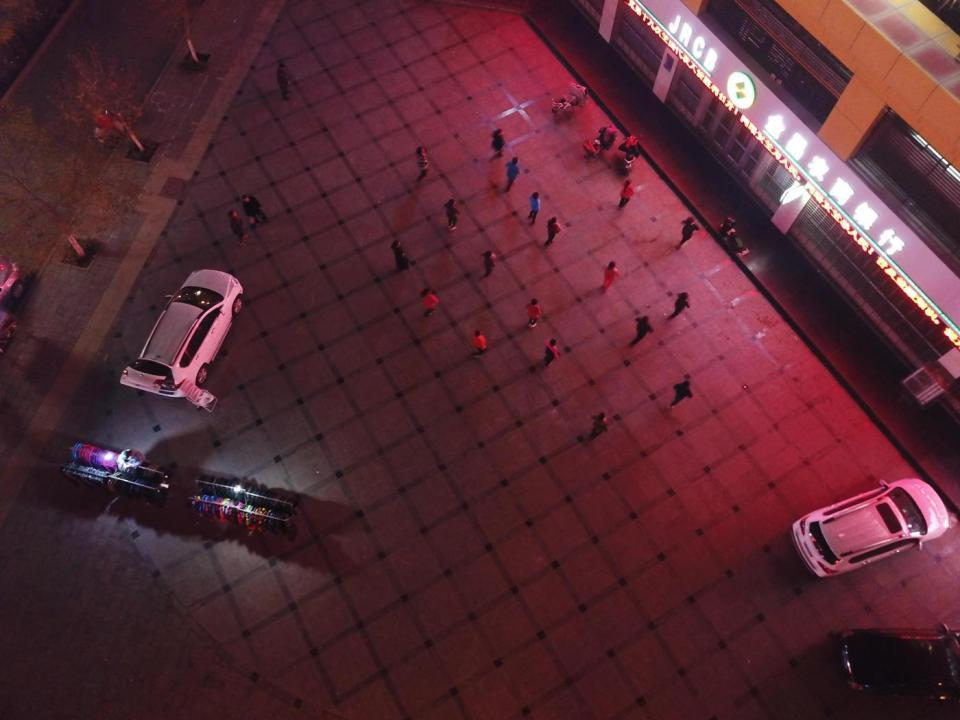car: (790, 477, 950, 578), (120, 269, 243, 398), (834, 623, 960, 707)
